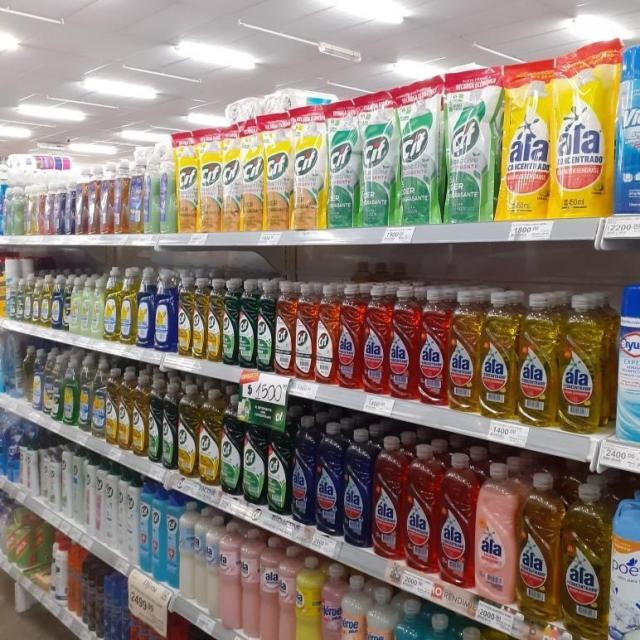ala_conc_amarillo: (562, 479, 610, 638), (559, 292, 607, 434), (518, 471, 559, 623), (518, 292, 557, 428), (480, 290, 516, 420), (449, 289, 479, 412)
ala_conc_azul: (344, 427, 372, 548), (316, 420, 342, 538), (292, 413, 315, 526)
ala_conc_rojo: (439, 449, 474, 588), (404, 442, 437, 574), (372, 434, 402, 560), (418, 286, 447, 406), (390, 284, 418, 400), (363, 284, 388, 396), (338, 283, 362, 389)
ala_crem_blanco: (206, 510, 219, 619)
ala_crem_rosado: (219, 519, 240, 632), (241, 527, 259, 639), (260, 535, 278, 640), (278, 543, 296, 640)
ala_sachet_amarillo: (552, 47, 613, 218), (498, 62, 550, 221)
ala_ultra_rosa: (475, 461, 517, 606)
cif_conc_bot_amarilla: (199, 386, 220, 486), (178, 382, 198, 478), (132, 372, 148, 456), (207, 277, 222, 363), (178, 272, 192, 357), (193, 276, 207, 360), (119, 368, 131, 452)
cif_conc_botella_roja: (316, 282, 337, 385), (295, 281, 315, 381), (276, 280, 294, 377)
cif_conc_botella_verde: (268, 410, 290, 516), (244, 404, 266, 506), (221, 394, 242, 496), (257, 279, 274, 372), (239, 278, 256, 369), (222, 277, 238, 366), (162, 380, 177, 471), (148, 376, 162, 465)
cif_conc_sachet_amarillo: (292, 106, 326, 231), (265, 114, 292, 232), (242, 119, 265, 233), (198, 128, 221, 233), (222, 125, 242, 233), (177, 132, 198, 234)
cif_conc_sachet_verde: (444, 66, 495, 224), (399, 79, 442, 225), (360, 92, 397, 228), (328, 99, 358, 229)
esencial: (393, 597, 418, 640)
heroe: (321, 562, 342, 640), (342, 573, 366, 640), (367, 587, 392, 640), (418, 612, 449, 640)
magistral_con_amarillo: (120, 264, 136, 346), (104, 266, 120, 342), (92, 359, 105, 440), (41, 274, 51, 328), (33, 274, 41, 326)
magistral_con_azul: (155, 266, 176, 352), (137, 266, 154, 349), (51, 274, 63, 330)
